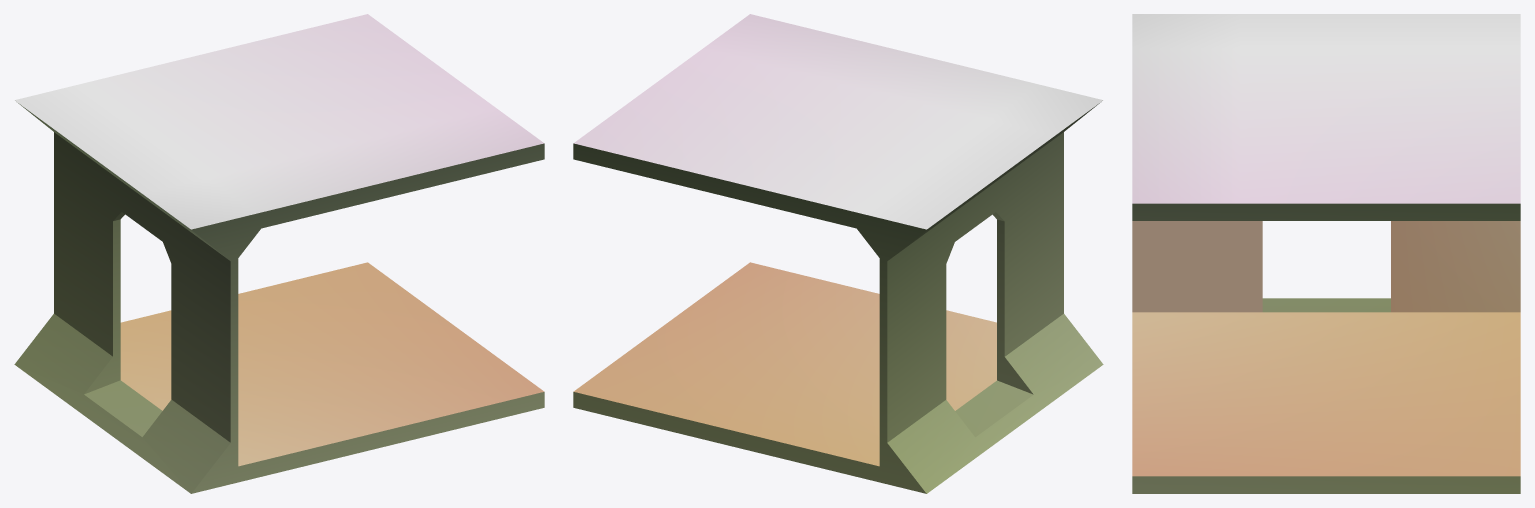
The model's file is R_Door.fbx.
3 views of the same model, side by side, from view 1: azimuth 30°, elevation 25°; view 2: azimuth 150°, elevation 25°; view 3: azimuth 270°, elevation 25° (orthographic). The views are drawn at different scales.
Parts seen in each view (by area): view 1: R_Door; view 2: R_Door; view 3: R_Door.
Part boxes in pixels (x1,y1,x2,y2): R_Door: [14, 14, 544, 493]; R_Door: [573, 14, 1103, 493]; R_Door: [1132, 14, 1520, 493].
Bounding box in the file's own units: 4.62 × 4 × 3.3.
